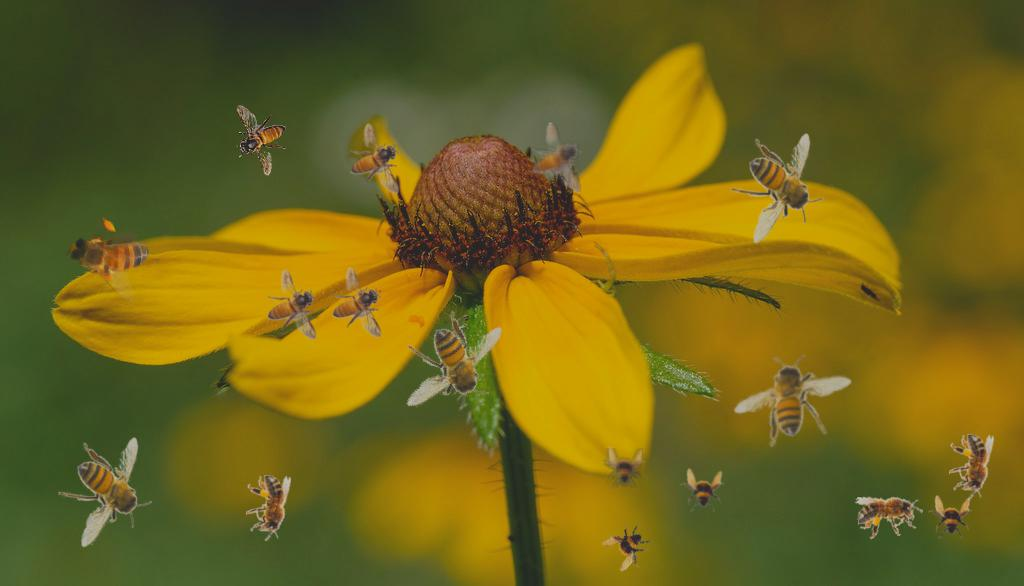Bee: (722, 327, 869, 471), (384, 294, 517, 436), (52, 201, 168, 310), (58, 437, 152, 548), (730, 133, 824, 244), (853, 486, 927, 543), (598, 516, 660, 578), (332, 267, 382, 338), (532, 122, 582, 193), (236, 105, 286, 176), (267, 269, 317, 340), (350, 123, 400, 194), (949, 434, 994, 500), (246, 475, 291, 541), (680, 468, 724, 512), (601, 446, 645, 490), (928, 495, 972, 539)
